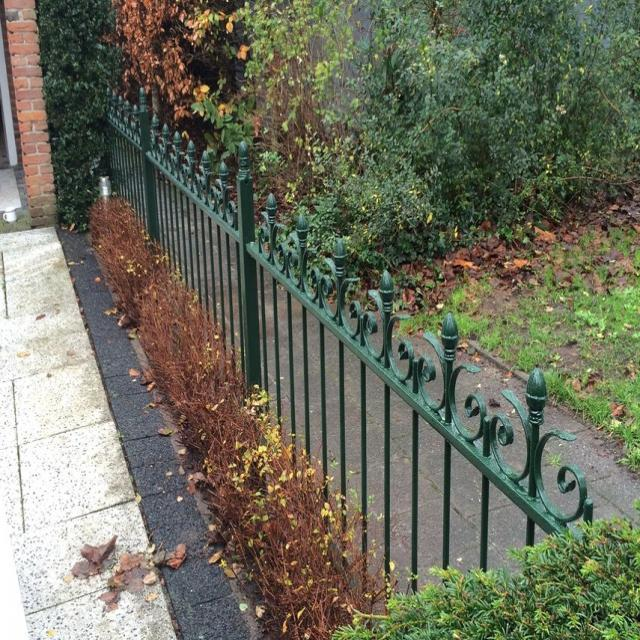fence line: (230, 191, 424, 590), (372, 320, 580, 640), (148, 128, 261, 402), (99, 89, 164, 256)
